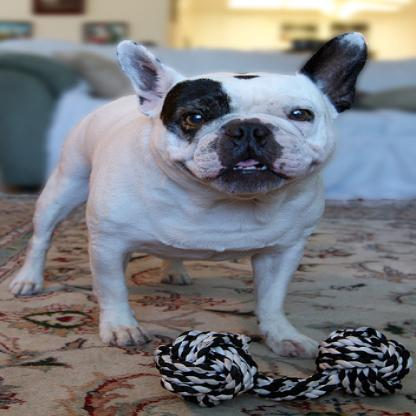French_bulldog: (5, 29, 370, 359)
